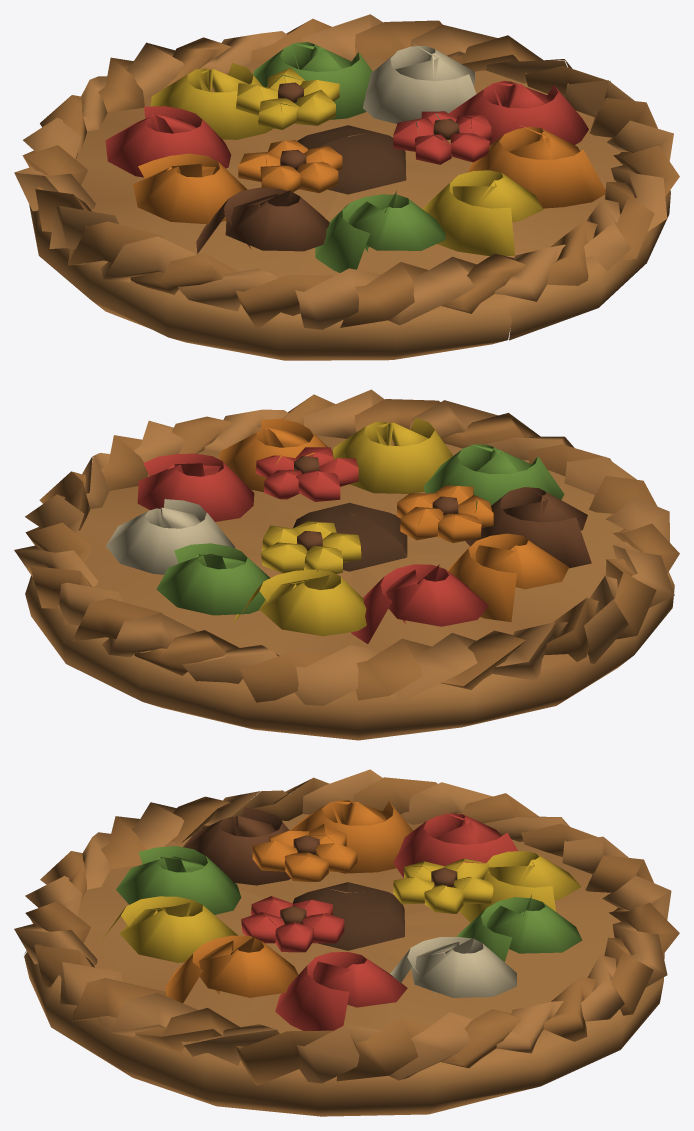
File: bread.glb
3 renders of one model, top to bottom at view 1: azimuth 30°, elevation 25°; view 2: azimuth 150°, elevation 25°; view 3: azimuth 270°, elevation 25°, orthographic.
Parts seen in each view (by area): view 1: bread_toppings, bread_braid, bread_base, bread_center; view 2: bread_toppings, bread_braid, bread_base, bread_center; view 3: bread_toppings, bread_braid, bread_base, bread_center.
Part boxes in pixels (x1=…): bread_toppings: x1=105, y1=42, x2=605, y2=272; bread_braid: x1=14, y1=14, x2=679, y2=329; bread_base: x1=29, y1=57, x2=670, y2=360; bread_center: x1=296, y1=125, x2=406, y2=194; bread_toppings: x1=106, y1=417, x2=591, y2=643; bread_braid: x1=14, y1=389, x2=679, y2=705; bread_base: x1=25, y1=435, x2=674, y2=740; bread_center: x1=293, y1=502, x2=407, y2=571; bread_toppings: x1=98, y1=800, x2=582, y2=1030; bread_braid: x1=14, y1=769, x2=679, y2=1085; bread_base: x1=24, y1=814, x2=664, y2=1116; bread_center: x1=293, y1=882, x2=404, y2=950.
Size of the model in its own units: 0.75 by 0.1526 by 0.7569.
